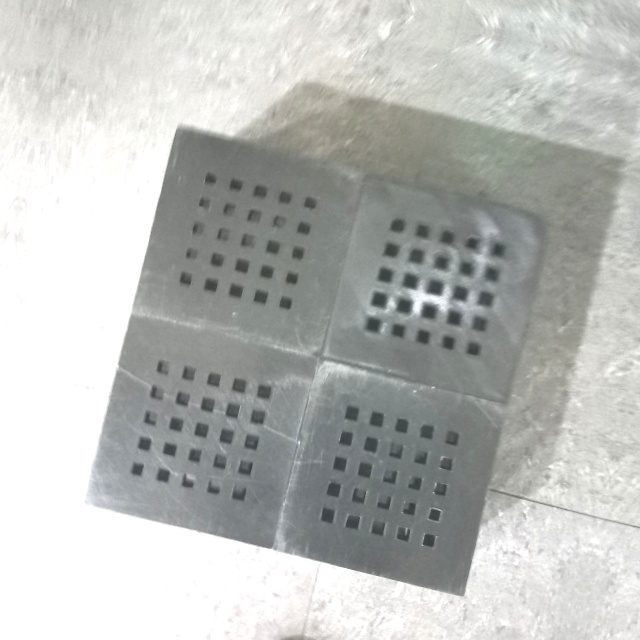pallet: (78, 114, 554, 609)
